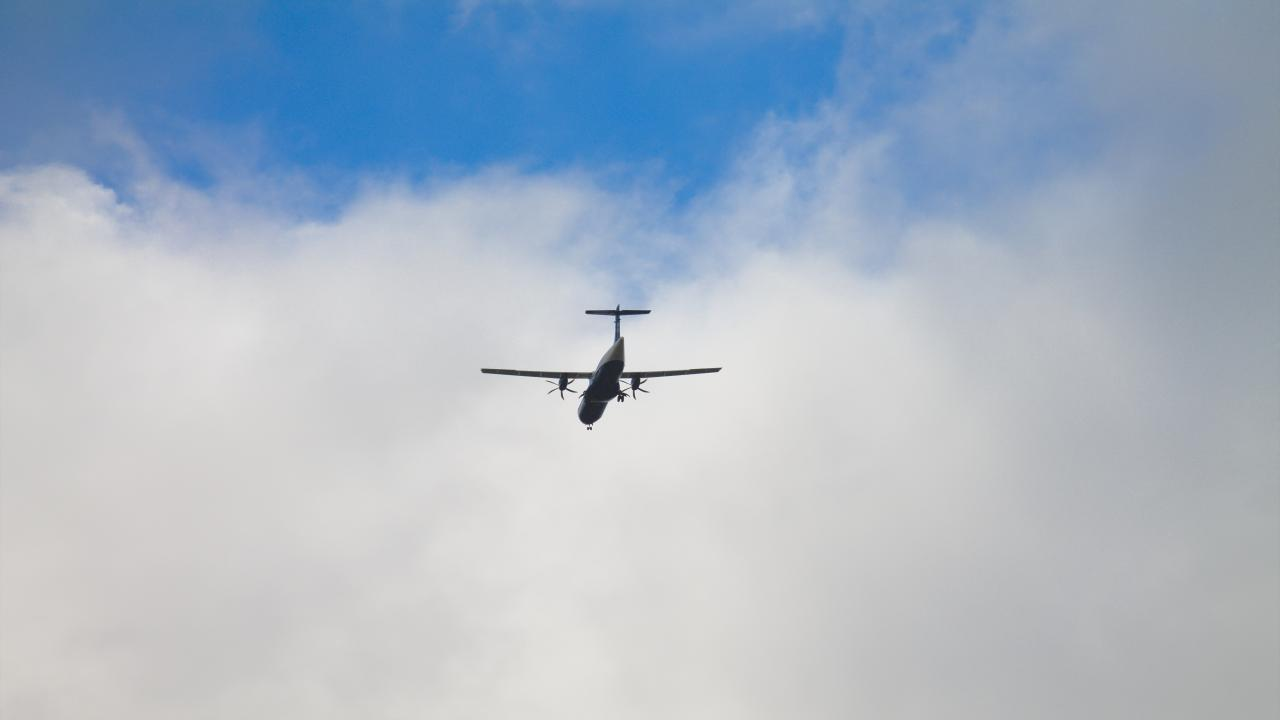Airplane: (470, 283, 734, 444)
